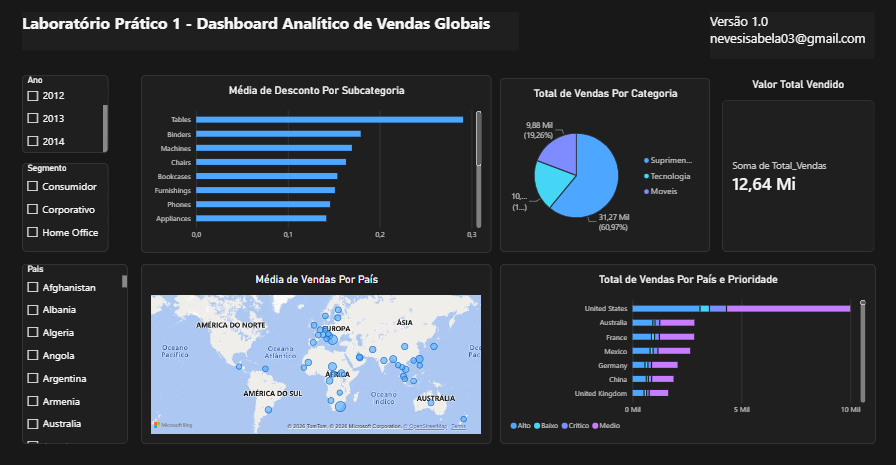

Layout of this report page (visuals, bound fields, positions):
{"tool":"powerbi","page":{"name":"Página 1","canvas":[1920,1080],"ordinal":0},"visuals":[{"type":"cardVisual","title":"Valor Total Vendido","fields":{"Data":["Sum(dataset.Total_Vendas)"]},"box":[1608,192,254,290],"z":0},{"type":"pieChart","title":"Total de Vendas Por Categoria","fields":{"Category":["dataset.Categoria"],"Y":["CountNonNull(dataset.ID_Pedido)"]},"box":[1238,192,350,290],"z":1000},{"type":"barChart","title":"Total de Vendas Por País e Prioridade","fields":{"Category":["dataset.Pais"],"Series":["dataset.Prioridade"],"Y":["CountNonNull(dataset.ID_Pedido)"]},"box":[1238,502,626,300],"z":2000},{"type":"clusteredBarChart","title":"Média de Desconto Por Subcategoria","fields":{"Category":["dataset.SubCategoria"],"Y":["Avg(dataset.Desconto)"]},"box":[640,186,584,296],"z":3000},{"type":"map","title":"Média de Vendas Por País","fields":{"Category":["dataset.Pais"],"Size":["Avg(dataset.Total_Vendas)"]},"box":[640,502,584,300],"z":4000},{"type":"slicer","fields":{"Values":["dataset.Pais"]},"box":[442,502,176,300],"z":5000},{"type":"slicer","fields":{"Values":["dataset.Segmento"]},"box":[442,334,144,148],"z":6000},{"type":"slicer","fields":{"Values":["dataset.Data_Pedido.Variation.Hierarquia de datas.Ano"]},"box":[442,186,144,130],"z":7000},{"type":"textbox","box":[442,82,828,64],"z":8000},{"type":"textbox","box":[1588,82,274,78],"z":8001}]}

Visuals, with their boxes on the page's 1920x1080 design canvas (x1, y1, x2, y2). These are canvas units, not pixel positions in the 896x465 screenshot, which may show the page scaled, cropped or inside an application window:
"Valor Total Vendido" cardVisual: box=[1608, 192, 1862, 482]
"Total de Vendas Por Categoria" pieChart: box=[1238, 192, 1588, 482]
"Total de Vendas Por País e Prioridade" barChart: box=[1238, 502, 1864, 802]
"Média de Desconto Por Subcategoria" clusteredBarChart: box=[640, 186, 1224, 482]
"Média de Vendas Por País" map: box=[640, 502, 1224, 802]
slicer - dataset.Pais: box=[442, 502, 618, 802]
slicer - dataset.Segmento: box=[442, 334, 586, 482]
slicer - dataset.Data_Pedido.Variation.Hierarquia de datas.Ano: box=[442, 186, 586, 316]
textbox: box=[442, 82, 1270, 146]
textbox: box=[1588, 82, 1862, 160]
